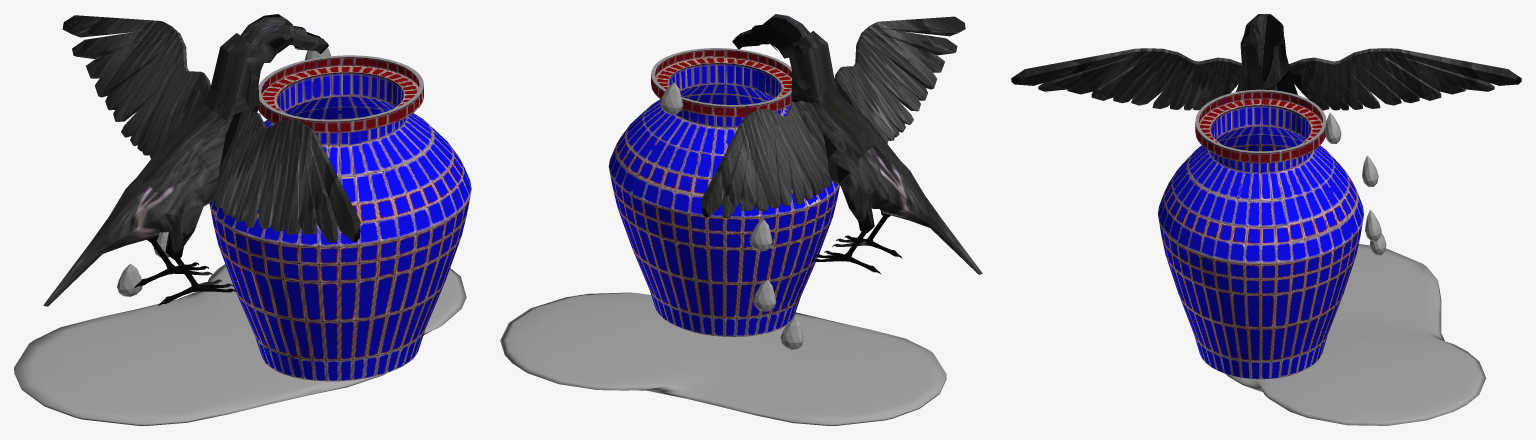
File: bheegahuakaua20.obj
The picture shows the model from 3 angles, left to right: view 1: azimuth 30°, elevation 25°; view 2: azimuth 150°, elevation 25°; view 3: azimuth 270°, elevation 25°; orthographic projection. The views are drawn at different scales.
Parts seen in each view (by area): view 1: Circle, Cylinder, Mball, Icosphere.002_Icosphere.003; view 2: Circle, Mball, Cylinder, Icosphere.003_Icosphere.004, Icosphere.002_Icosphere.003, Icosphere_Icosphere.001, Icosphere.001_Icosphere.002; view 3: Circle, Mball, Cylinder.
Boxes of the visible parts, <box> form: Circle: <box>209,55,471,381</box>; Cylinder: <box>43,14,360,306</box>; Mball: <box>14,264,466,425</box>; Icosphere.002_Icosphere.003: <box>117,263,142,296</box>; Circle: <box>608,48,839,336</box>; Mball: <box>500,292,946,425</box>; Cylinder: <box>701,14,982,274</box>; Icosphere.003_Icosphere.004: <box>660,82,683,114</box>; Icosphere.002_Icosphere.003: <box>780,317,803,349</box>; Icosphere_Icosphere.001: <box>753,279,776,311</box>; Icosphere.001_Icosphere.002: <box>749,219,772,251</box>; Circle: <box>1158,89,1363,379</box>; Mball: <box>1226,244,1485,425</box>; Cylinder: <box>1011,14,1521,110</box>.
Size of the model in its own units: 1.18 by 0.8829 by 1.28.
Materials: 10 (3 with a texture image).
